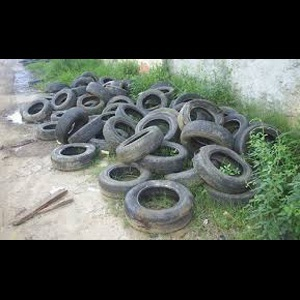tire: (123, 179, 193, 235), (193, 145, 253, 194), (180, 120, 234, 159), (99, 161, 153, 199), (178, 98, 226, 138), (135, 109, 180, 150), (116, 126, 164, 163), (135, 141, 188, 173), (102, 118, 145, 155), (50, 142, 96, 171), (55, 107, 88, 145), (135, 87, 169, 120), (117, 103, 151, 135), (21, 96, 51, 122), (77, 91, 108, 115), (36, 121, 71, 141), (49, 87, 76, 110)
